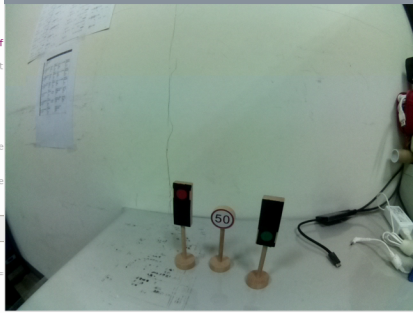Green: (253, 193, 283, 253)
Red: (168, 180, 195, 232)
Speed50: (208, 204, 236, 230)
